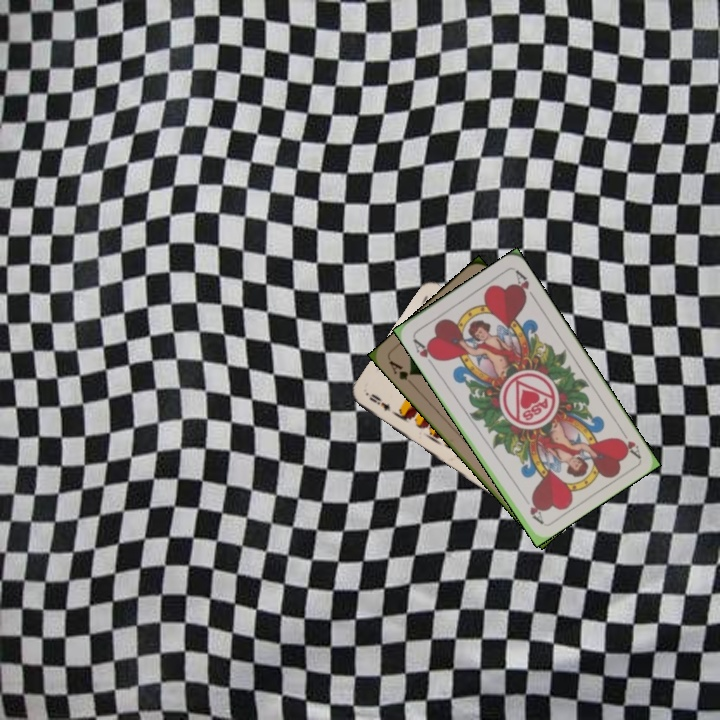E9: (365, 389, 393, 414)
GA: (385, 356, 417, 389)
HA: (409, 334, 440, 370), (613, 423, 643, 460)
